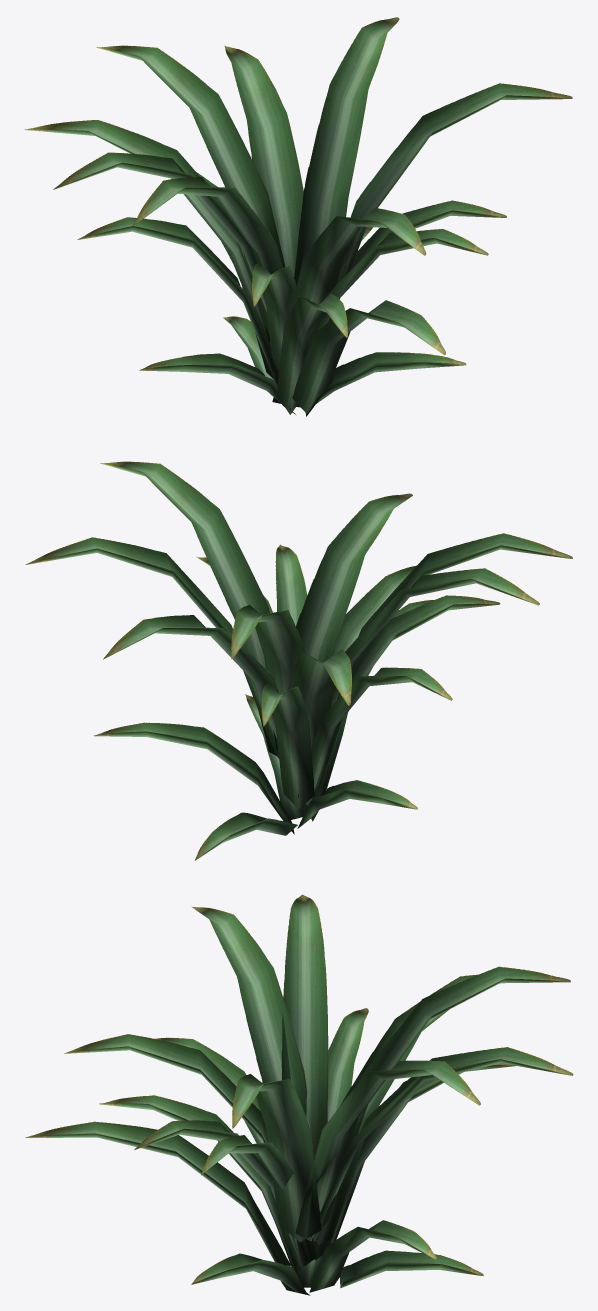
File: Yucca02.FBX
The picture shows the model from 3 angles, top to bottom: view 1: azimuth 30°, elevation 25°; view 2: azimuth 150°, elevation 25°; view 3: azimuth 270°, elevation 25°; orthographic projection.
Visible parts, largest first — view 1: Yucca02; view 2: Yucca02; view 3: Yucca02.
Boxes of the visible parts, <box> form: Yucca02: <box>24,17,572,416</box>; Yucca02: <box>25,461,572,860</box>; Yucca02: <box>25,894,573,1295</box>.
Size of the model in its own units: 542 by 317 by 538.
